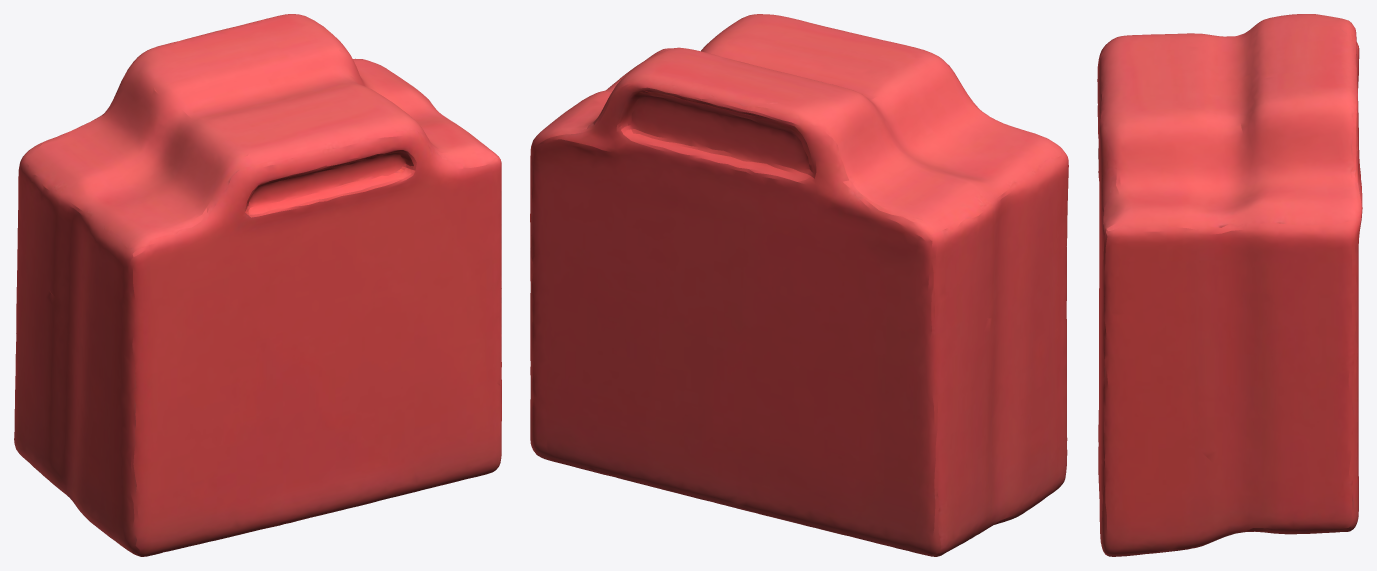
Rendered from jerry_can.glb.
The picture shows the model from 3 angles, left to right: view 1: azimuth 30°, elevation 25°; view 2: azimuth 150°, elevation 25°; view 3: azimuth 270°, elevation 25°; orthographic projection. The views are drawn at different scales.
Parts seen in each view (by area): view 1: jerry_can; view 2: jerry_can; view 3: jerry_can.
Part boxes in pixels (box(x1,y1,x2,y2)): jerry_can: box(14, 14, 501, 556); jerry_can: box(530, 14, 1068, 556); jerry_can: box(1097, 14, 1362, 556).
Size of the model in its own units: 1.9 by 1.91 by 1.09.
1 material, 1 textured.
